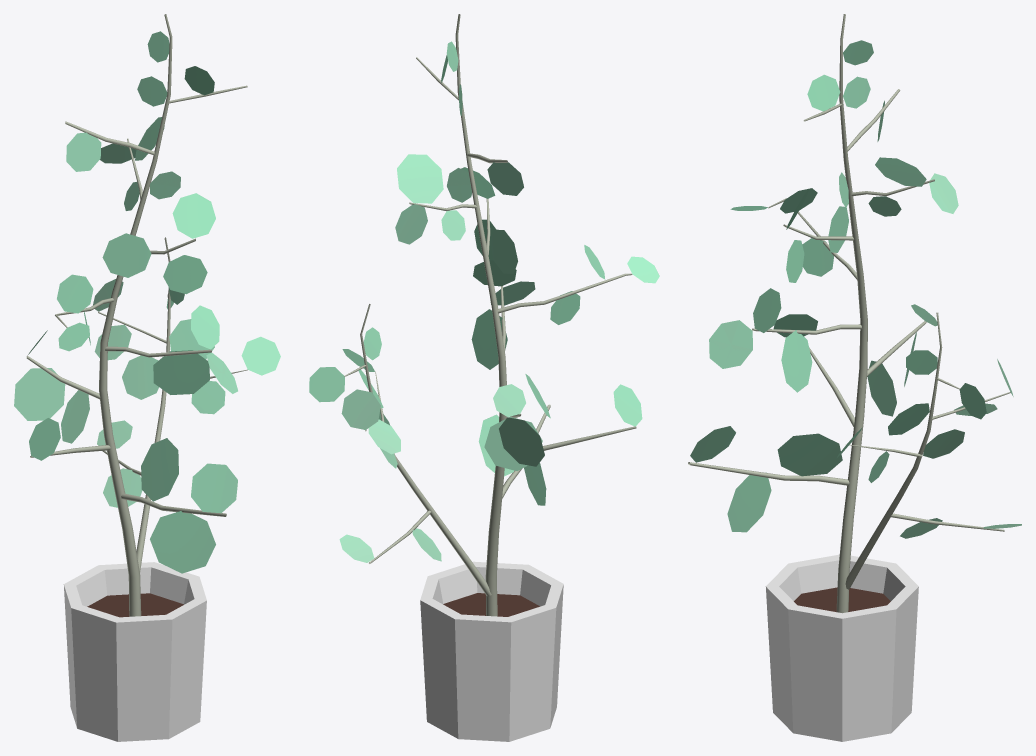
File: eucalyptus.glb
The picture shows the model from 3 angles, left to right: view 1: azimuth 30°, elevation 25°; view 2: azimuth 150°, elevation 25°; view 3: azimuth 270°, elevation 25°; orthographic projection. The views are drawn at different scales.
Parts seen in each view (by area): view 1: Plant, 円柱; view 2: Plant, 円柱; view 3: Plant, 円柱.
Boxes of the visible parts, x1=… form: Plant: x1=14, y1=14, x2=280, y2=616; 円柱: x1=63, y1=562, x2=206, y2=741; Plant: x1=309, y1=14, x2=659, y2=616; 円柱: x1=420, y1=561, x2=563, y2=741; Plant: x1=688, y1=14, x2=1021, y2=613; 円柱: x1=765, y1=554, x2=918, y2=741.
Size of the model in its own units: 0.4622 by 1.13 by 0.4784.
Materials: 4 (1 with a texture image).
